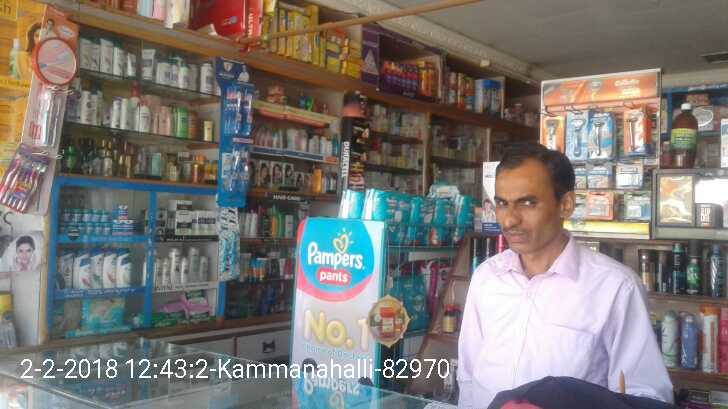beauty: (587, 113, 612, 158), (621, 110, 645, 155), (566, 111, 588, 160), (624, 191, 650, 220), (189, 209, 217, 235), (615, 163, 642, 185), (101, 249, 115, 288), (117, 257, 133, 286), (91, 250, 103, 287), (169, 246, 180, 286), (79, 258, 93, 288), (187, 246, 198, 284), (174, 208, 190, 234), (590, 168, 609, 187), (161, 257, 171, 285), (198, 257, 208, 283), (155, 257, 163, 284), (180, 258, 188, 284)
pharmacy: (363, 188, 407, 246), (407, 195, 433, 246), (435, 199, 456, 246), (153, 304, 189, 326), (588, 191, 613, 219), (242, 87, 253, 135), (237, 149, 249, 191), (182, 289, 207, 306), (185, 306, 211, 322), (228, 145, 237, 191), (233, 86, 241, 136), (113, 205, 129, 220), (111, 221, 123, 235), (81, 209, 93, 223), (125, 220, 135, 236), (71, 209, 80, 224), (100, 210, 110, 223), (91, 209, 100, 223), (95, 225, 103, 235), (104, 226, 111, 237), (86, 225, 93, 234)
